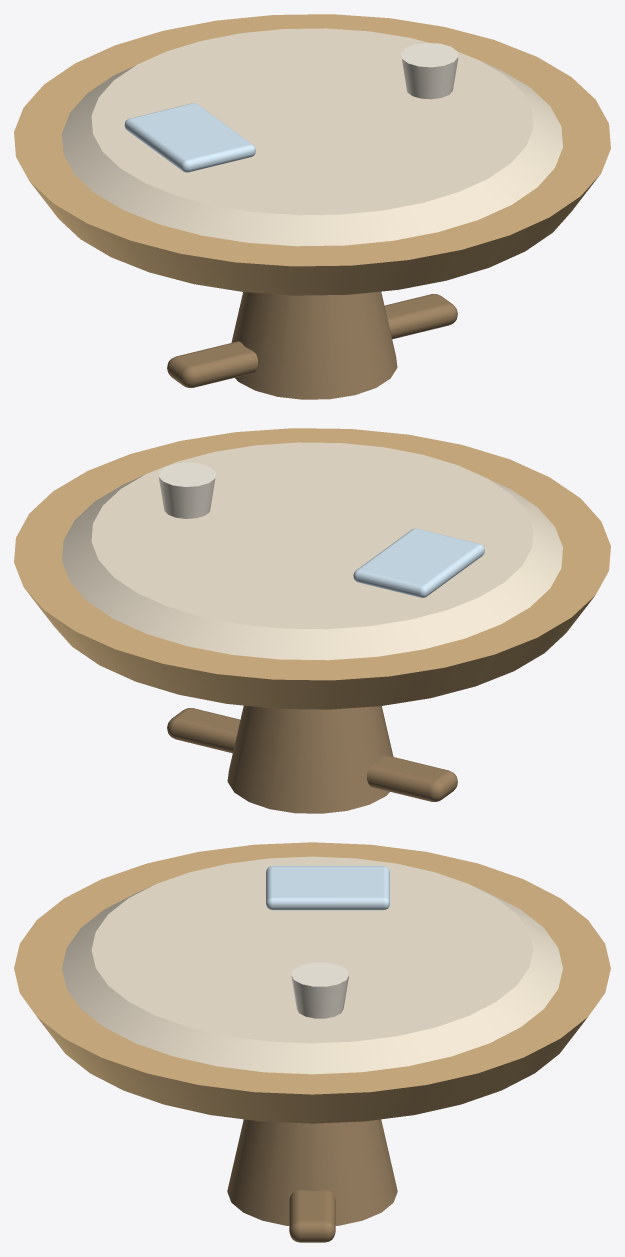
The model's file is coffee-table.glb.
The picture shows the model from 3 angles, top to bottom: view 1: azimuth 30°, elevation 25°; view 2: azimuth 150°, elevation 25°; view 3: azimuth 270°, elevation 25°; orthographic projection.
Parts seen in each view (by area): view 1: coffee-table; view 2: coffee-table; view 3: coffee-table.
Part boxes in pixels (x1,y1,x2,y2): coffee-table: (14,14,610,399); coffee-table: (14,428,610,813); coffee-table: (14,842,610,1242).
Bounding box in the file's own units: 1.54 × 0.785 × 1.54.
